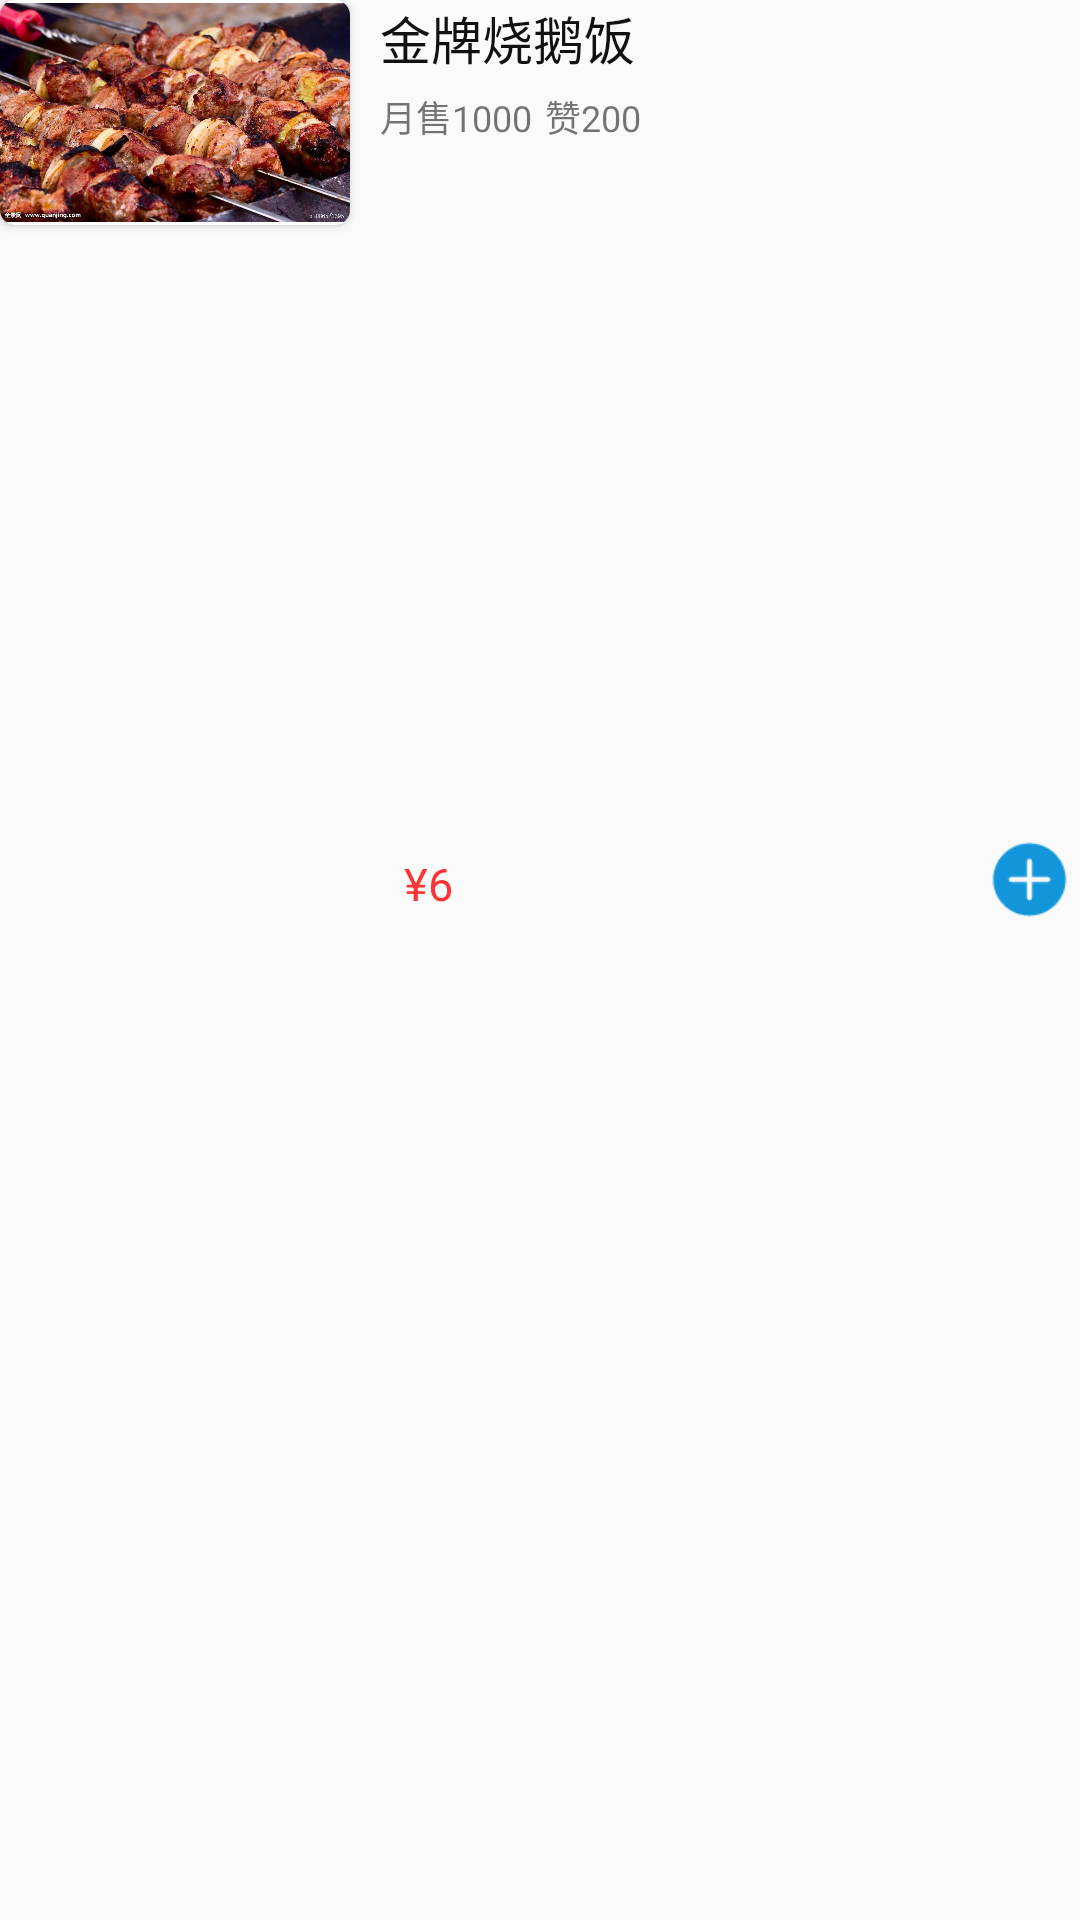

Where icons sit on this 1080*1920 app screen, as Rect(x1, y1, x2, y2):
add: Rect(992, 842, 1067, 917)
shaokao: Rect(0, 3, 350, 222)
